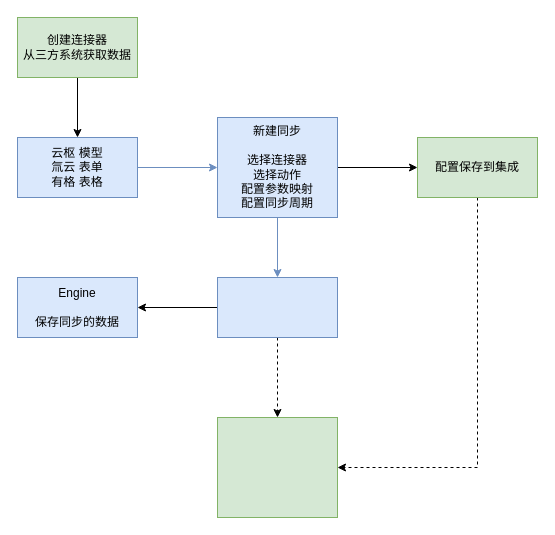
Image size: 555x535. Some labels were removed from this diagram. The centre of each missing label's shape, as x and y in pixels:
同步数据接口 执行动作 获取数据 按照映射转换 返回数据: [277,467]
定时任务: [277,307]
